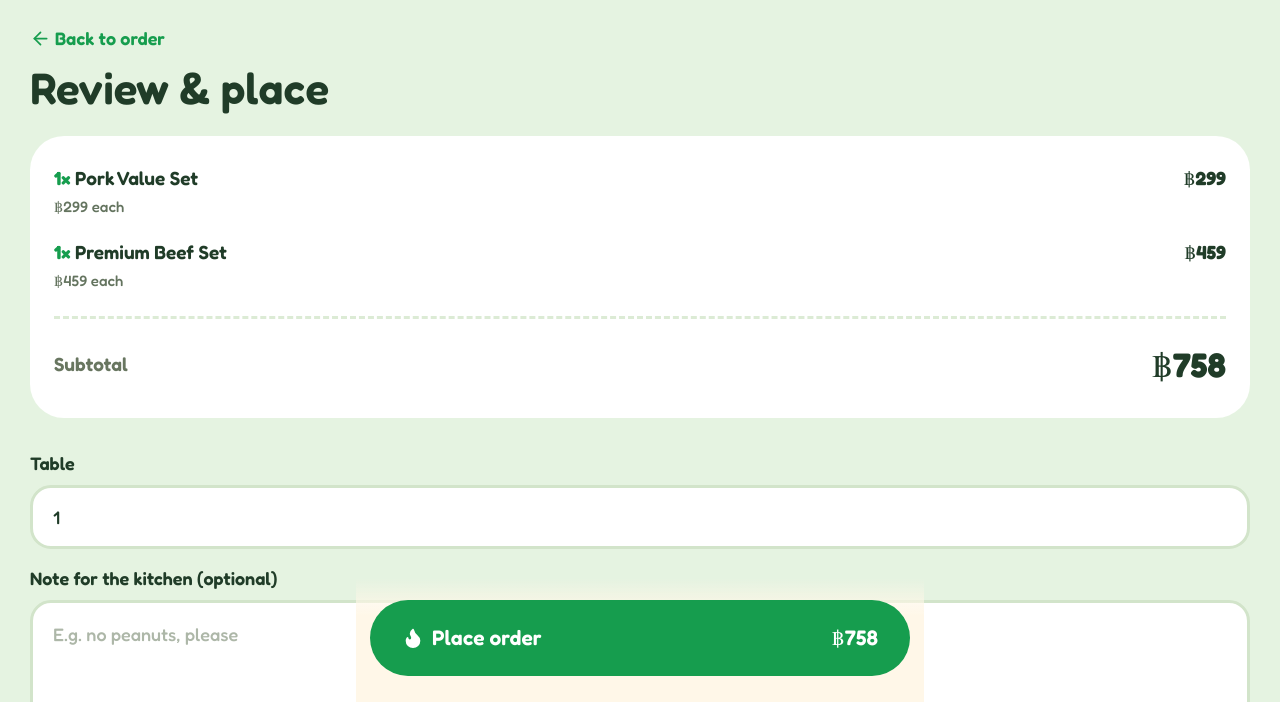
order submission › keeps the cart when a product is unavailable
The width and height of the screenshot is (1280, 702).
Click the button "Place order ฿758" at (487, 638), box [370,600,910,676]
(page scrolled)
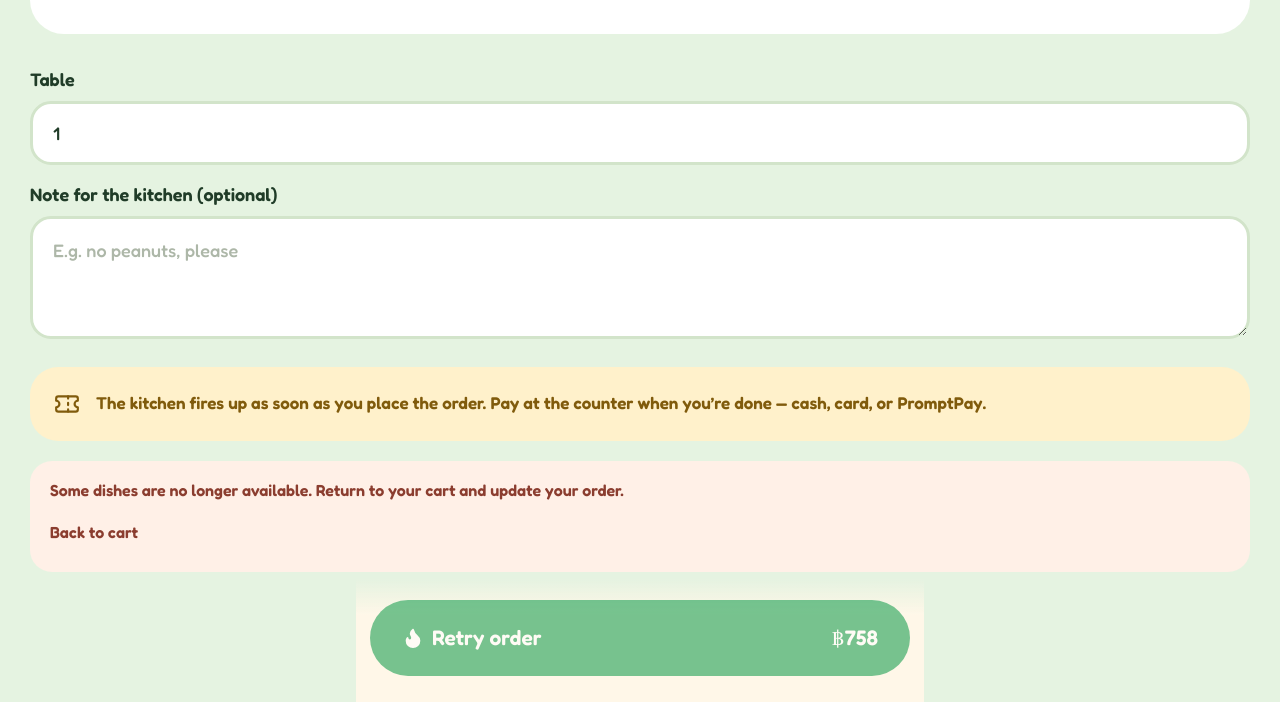
Result: the message shows "no longer available" at [50,480,624,500]
Result: the link "Back to cart" is shown at [50,522,138,542]
